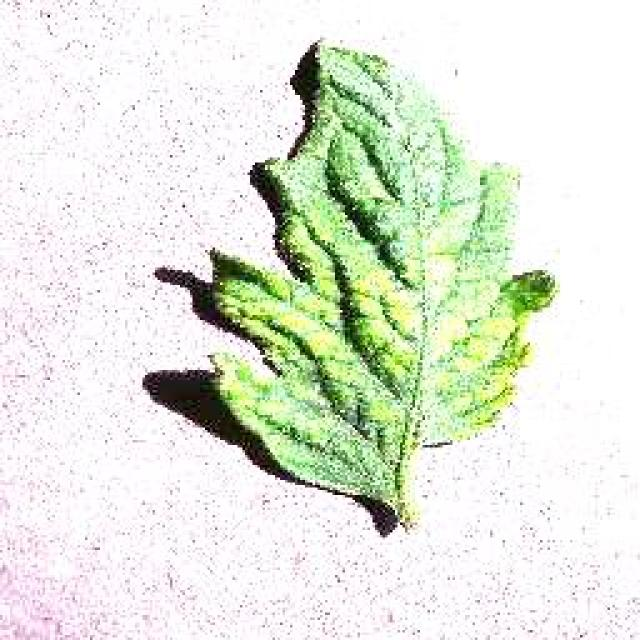Tomato___Tomato_mosaic_virus: (202, 42, 555, 522)
